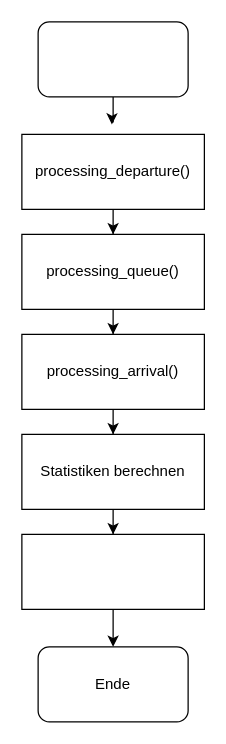
The diagram is 226 pixels wide and 744 high, and some of its shapes have lost their labels. The centre of each missing label's shape, as x and y in pixels:
Start: the point at 112,59
Statistiken ausgeben: the point at 112,571
